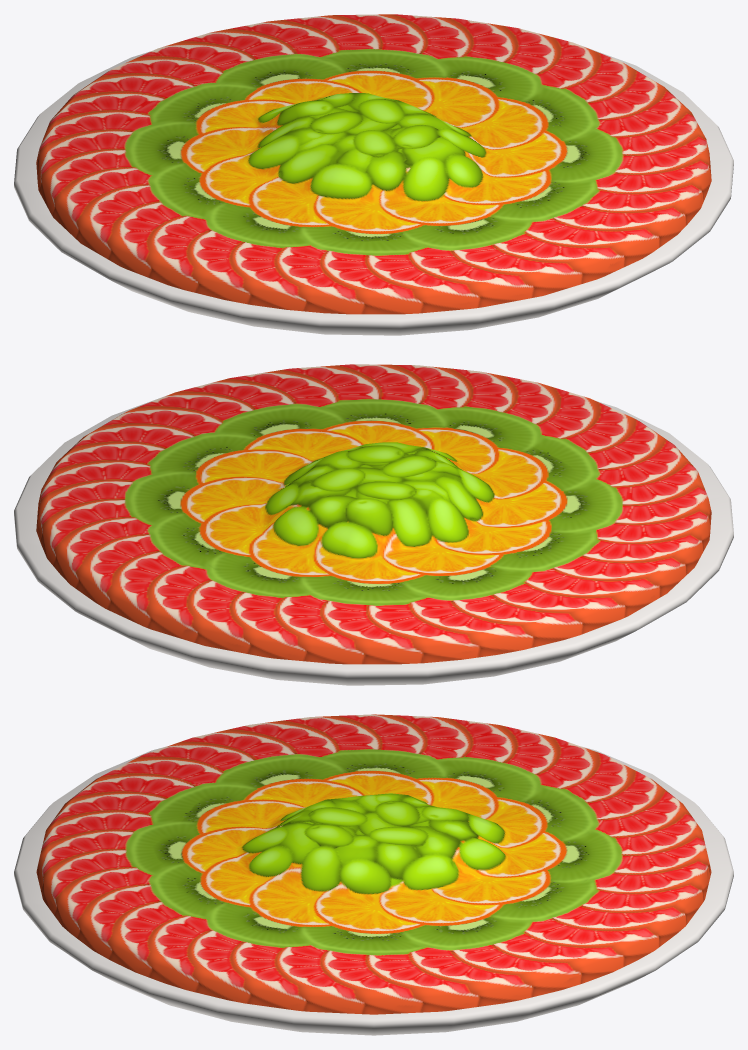
The model's file is BuffetFruits01_2.FBX.
3 views of the same model, one above another, from view 1: azimuth 30°, elevation 25°; view 2: azimuth 150°, elevation 25°; view 3: azimuth 270°, elevation 25° (orthographic).
Parts seen in each view (by area): view 1: BuffetFruits01_2; view 2: BuffetFruits01_2; view 3: BuffetFruits01_2.
Boxes of the visible parts, box(x1,y1,x2,y2) form: BuffetFruits01_2: box(14, 14, 733, 335); BuffetFruits01_2: box(14, 364, 733, 685); BuffetFruits01_2: box(14, 714, 733, 1035).
Size of what is drawn, in the model's own units: 0.5988 by 0.0654 by 0.5988.
